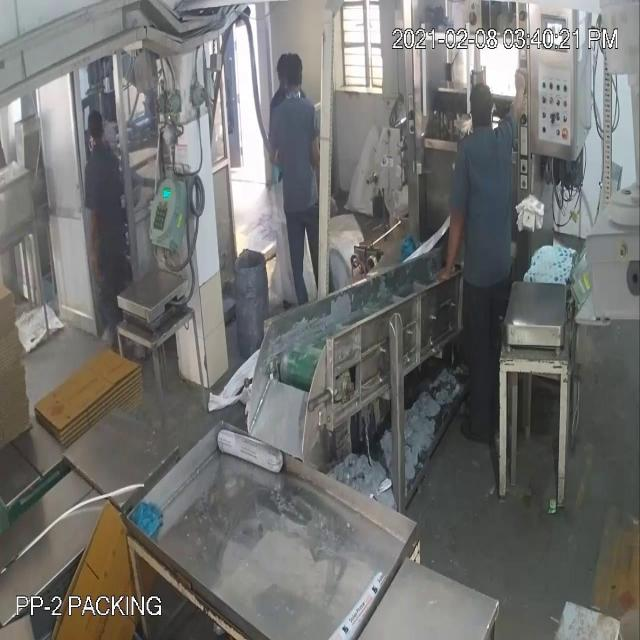No_Gloves: (20, 71, 524, 243)
